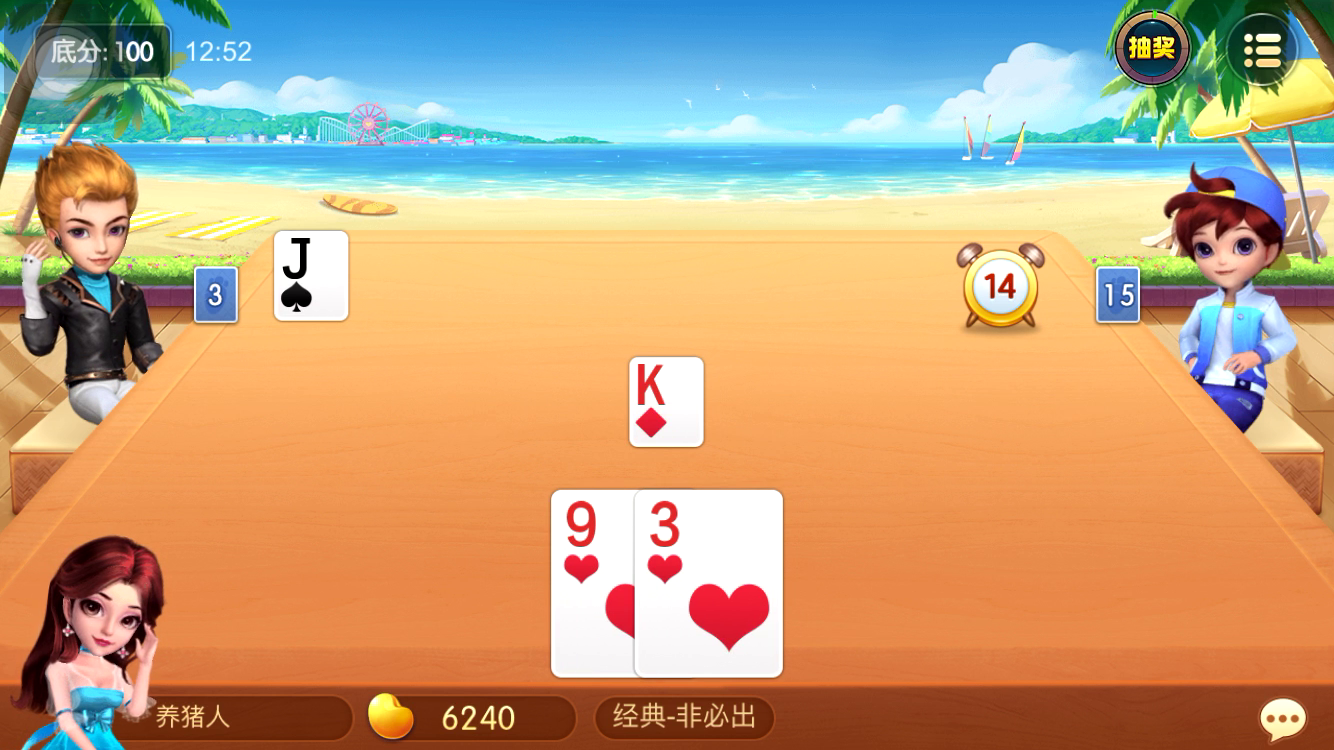J: (275, 233, 322, 284)
K: (629, 357, 677, 410)
nine: (553, 493, 609, 553)
three: (643, 488, 690, 547)
